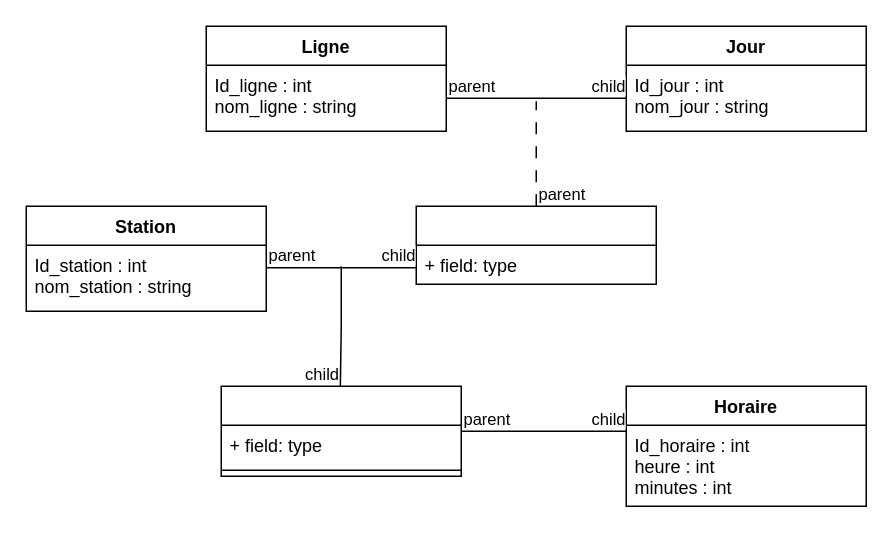
This 893x537 diagram has some shape labels left out. The box of each missing label's shape, as (x1, y1, x2, y2) in pixels:
Ligne-Jour: (415, 205, 656, 284)
Station-ligne-Jour: (220, 385, 461, 476)
